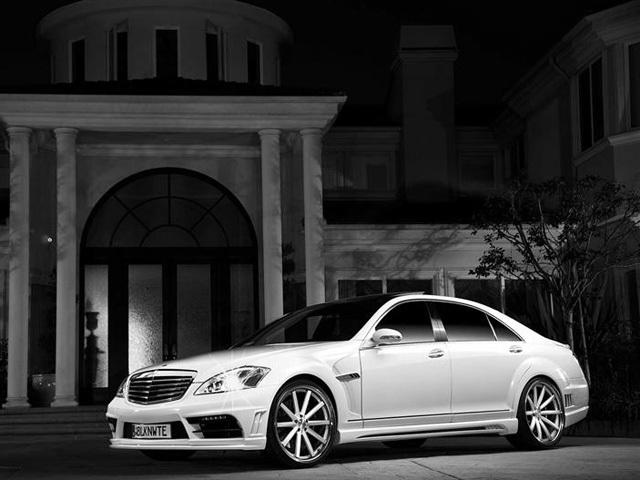car: (102, 291, 595, 475)
